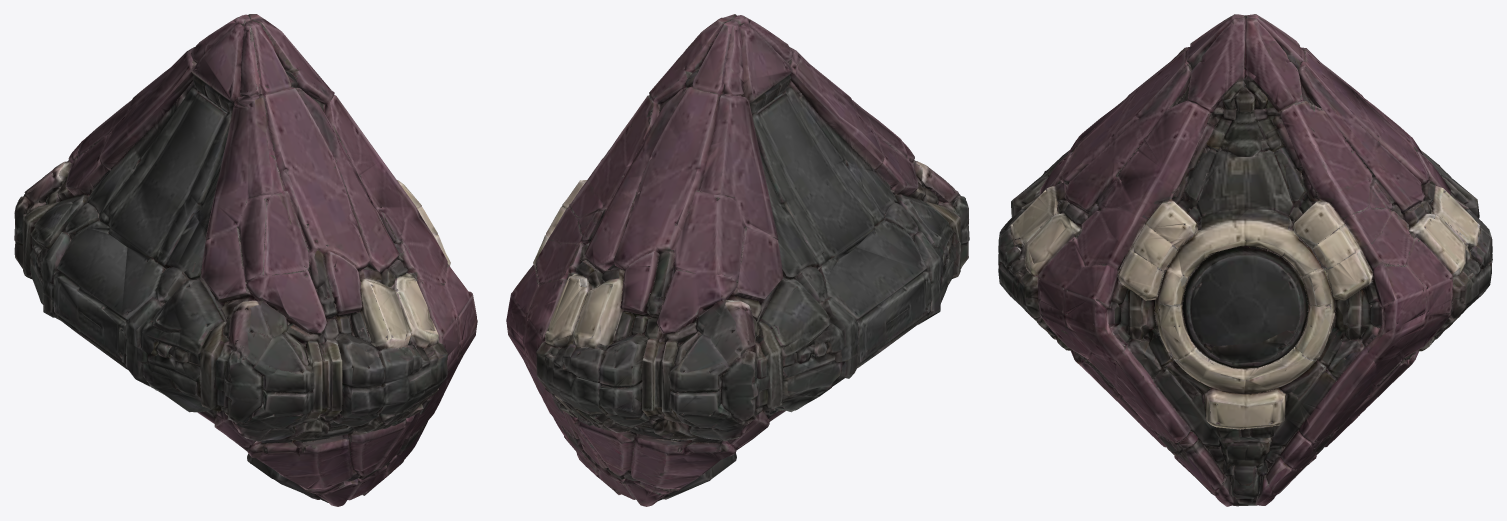
3 renders of one model, left to right at view 1: azimuth 30°, elevation 25°; view 2: azimuth 150°, elevation 25°; view 3: azimuth 270°, elevation 25°, orthographic. The views are drawn at different scales.
Visible parts, largest first — view 1: chassis; view 2: chassis; view 3: chassis.
Part boxes in pixels (x1=…): chassis: x1=14, y1=14, x2=477, y2=506; chassis: x1=506, y1=14, x2=969, y2=506; chassis: x1=998, y1=14, x2=1492, y2=506.
Size of the model in its own units: 0.6759 by 0.9884 by 0.9891.
Materials: 1 (1 with a texture image).
